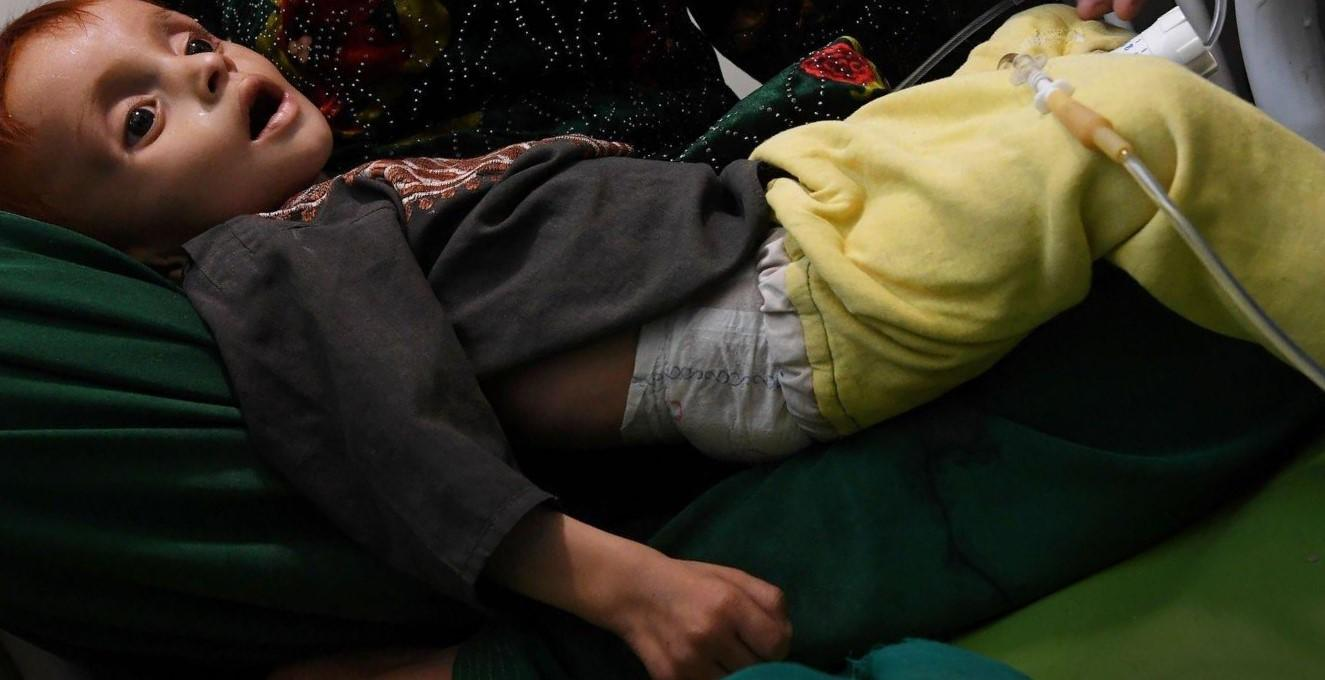Stunting: (0, 0, 357, 265)
